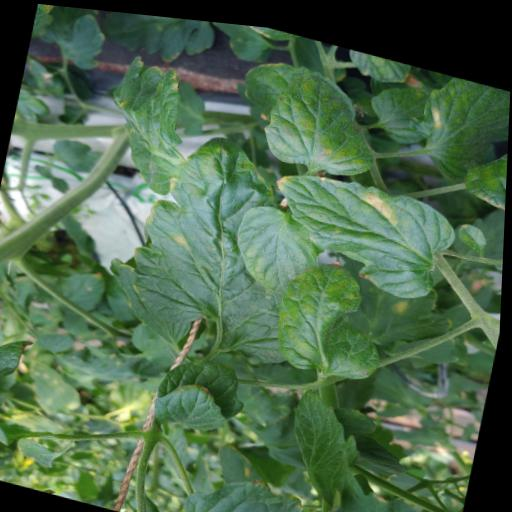Leaf Mold: (121, 113, 331, 364), (261, 153, 464, 298), (269, 243, 397, 381), (260, 51, 390, 175), (400, 56, 511, 178), (96, 8, 220, 70)
